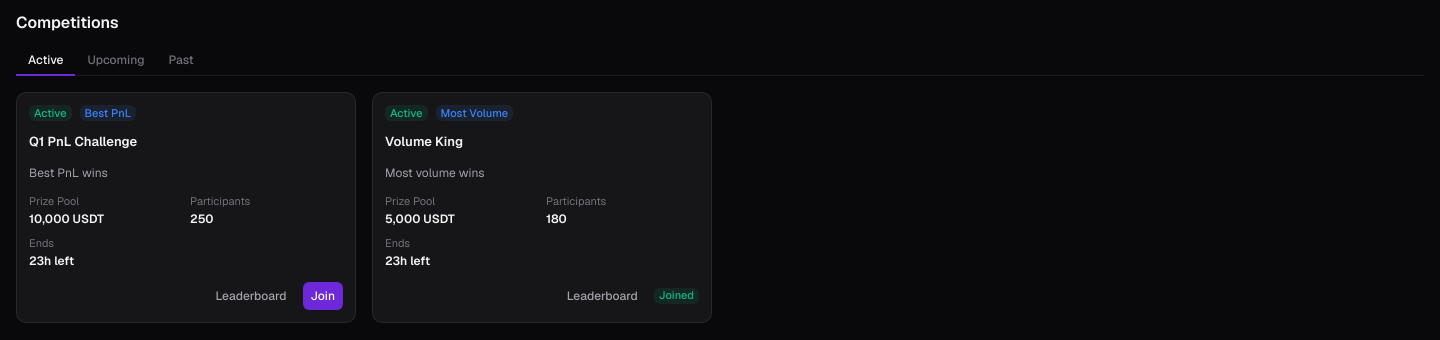
Test: CompetitionsPage › shows past competitions in separate tab
Expected: the heading "Q1 PnL Challenge" is shown, [29,133,137,150]
Click the tab "Past" at point(181, 61), box [156,46,206,76]
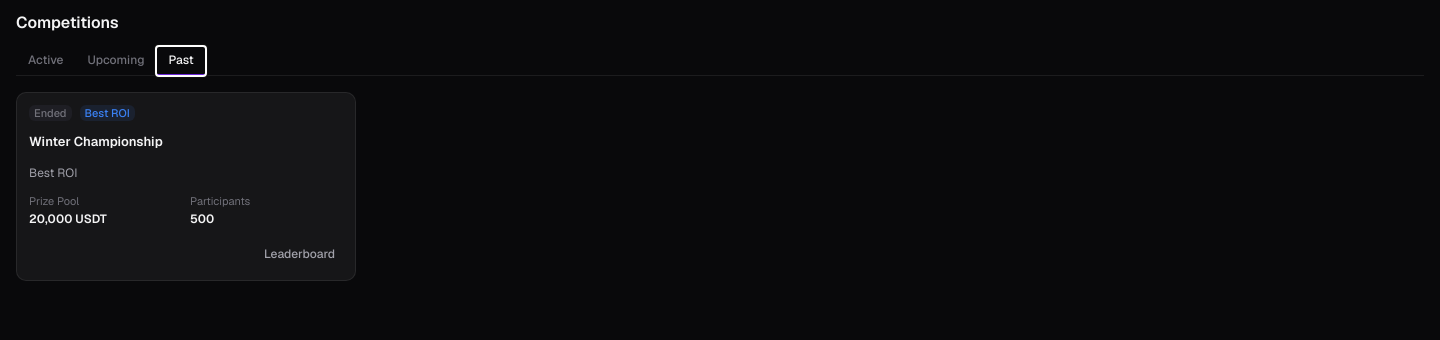
Expected: the heading "Winter Championship" is shown, [29,133,163,150]
Expected: the heading "Q1 PnL Challenge" is gone
